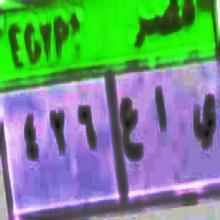2: (47, 105, 68, 159)
4: (22, 109, 41, 163)
6: (78, 101, 100, 152)
ain: (118, 94, 144, 164)
alif: (150, 83, 170, 133)
yaa: (189, 93, 215, 151)
